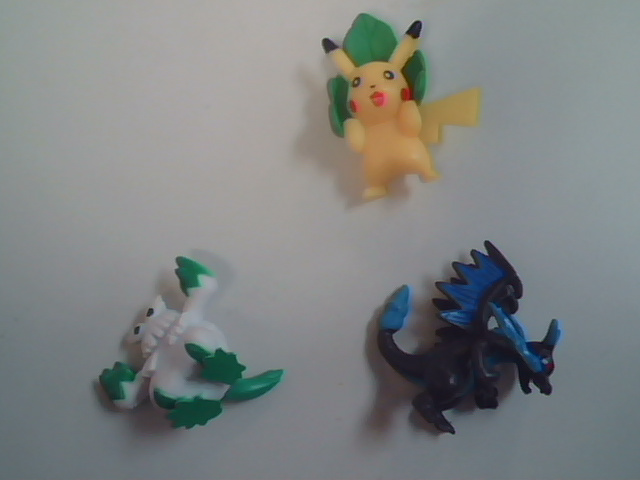abomasnow: (67, 253, 299, 458)
charizard: (353, 246, 578, 445)
pikachu: (282, 12, 506, 223)
